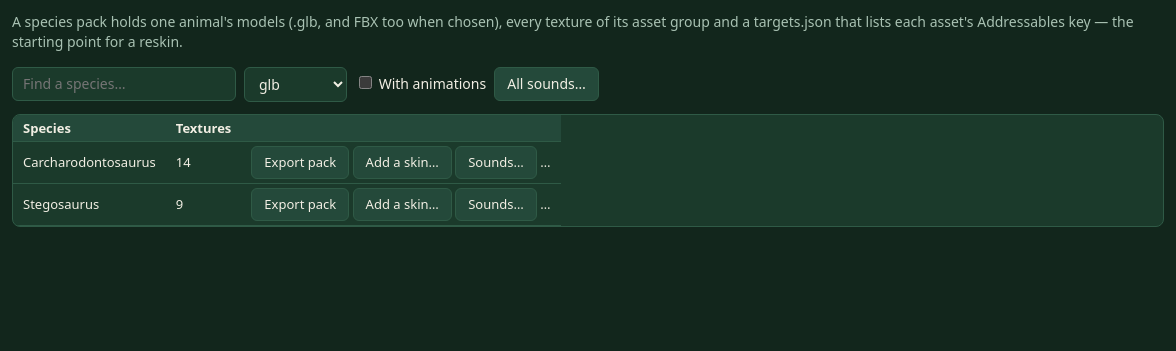
Test: SpeciesPanel › opens All sounds
What coordinates should you click on to do the following:
click the button "All sounds…"
I would click on:
 (547, 84)
Its box is [494,67,599,101].
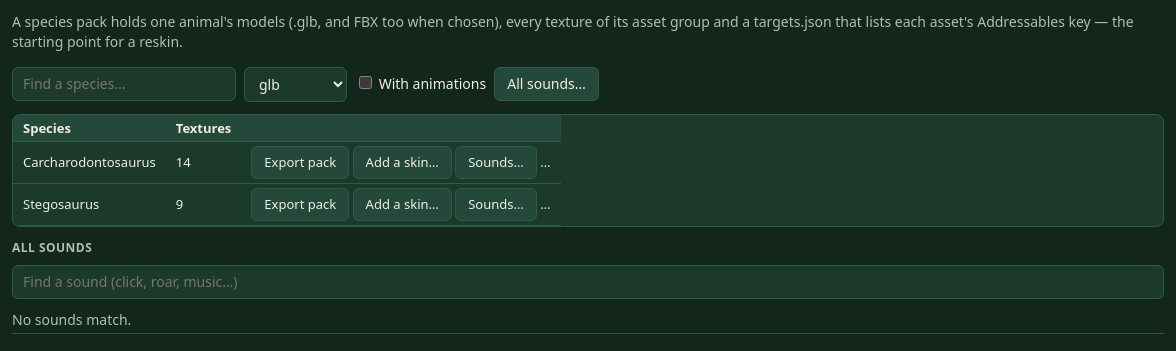
Expected: the search field labelled "Find a sound" is shown, [12,264,1164,299]
